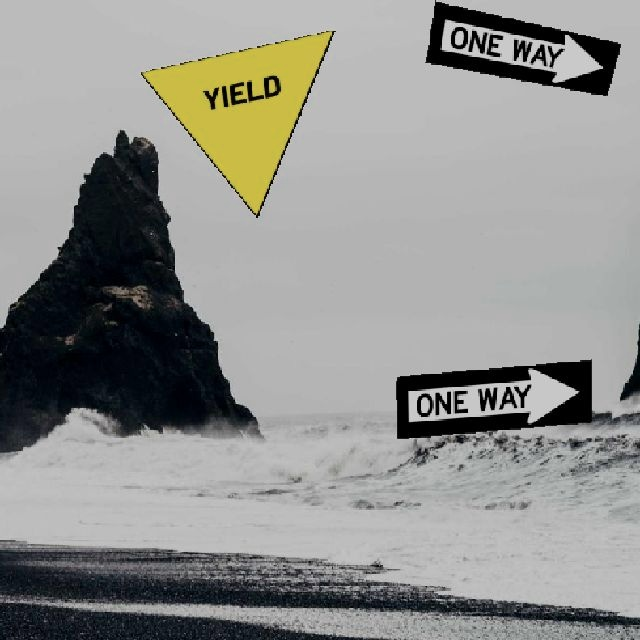ONE_WAY_ right: (424, 0, 620, 95), (395, 358, 591, 437)
YIELD: (138, 28, 334, 217)
